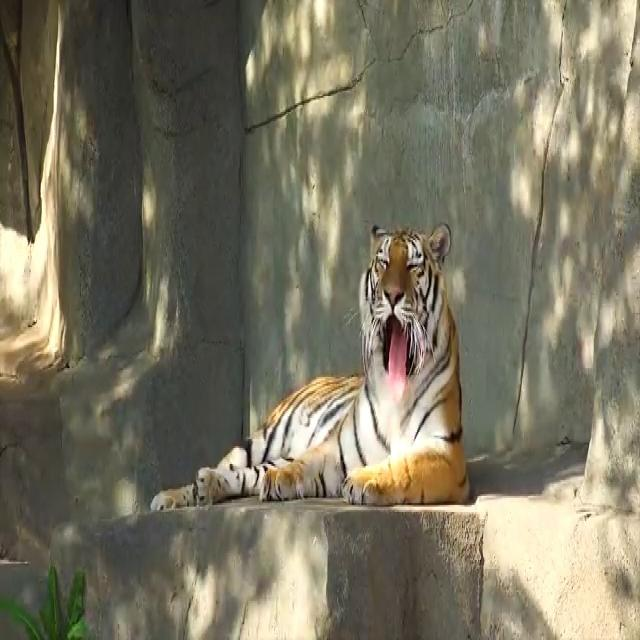tiger: (150, 222, 468, 510)
